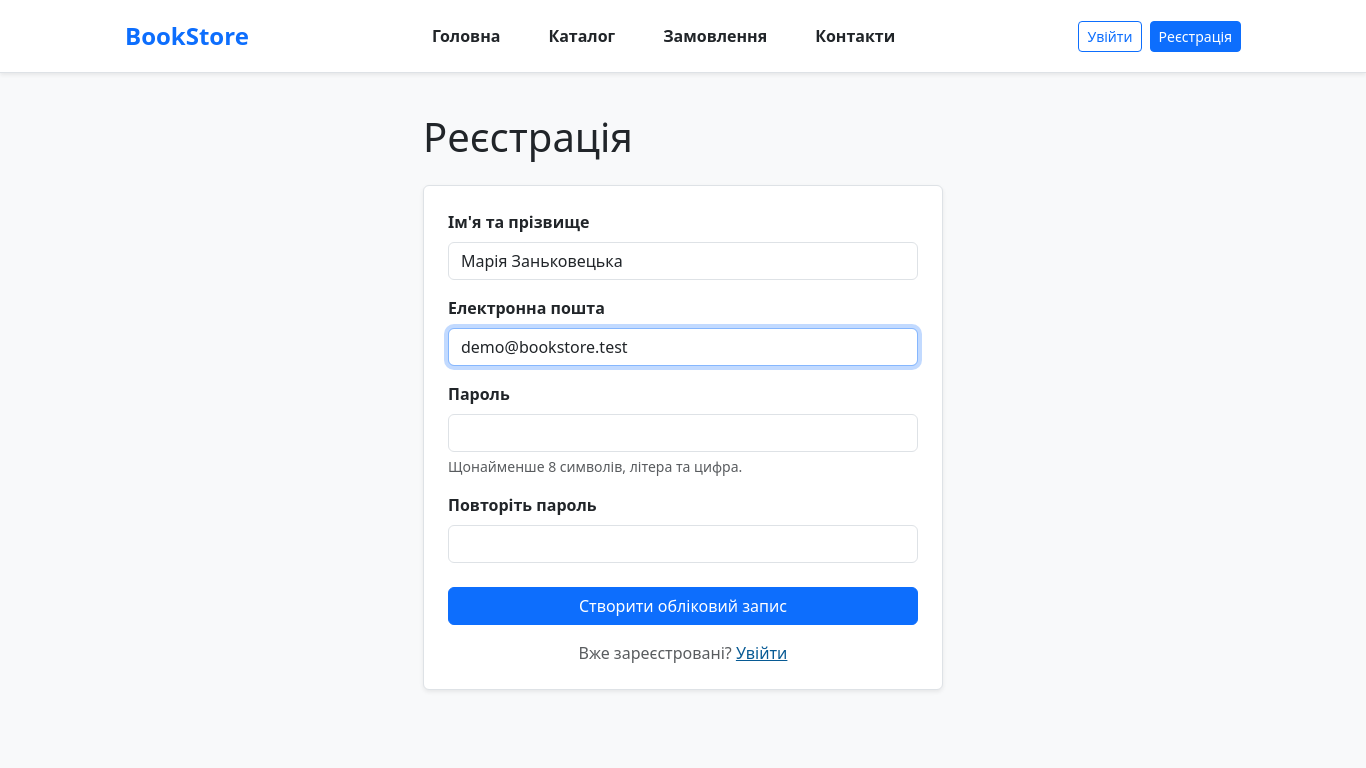
Test: Автентифікація, захищені маршрути та контакти › реєструє нового користувача, не допускає повторної реєстрації тієї ж пошти та виконує вихід
Earlier steps of the test are not shown.
Type "teatr1882" into the password field labelled "Пароль" at (683, 433), box [448,414,918,452]
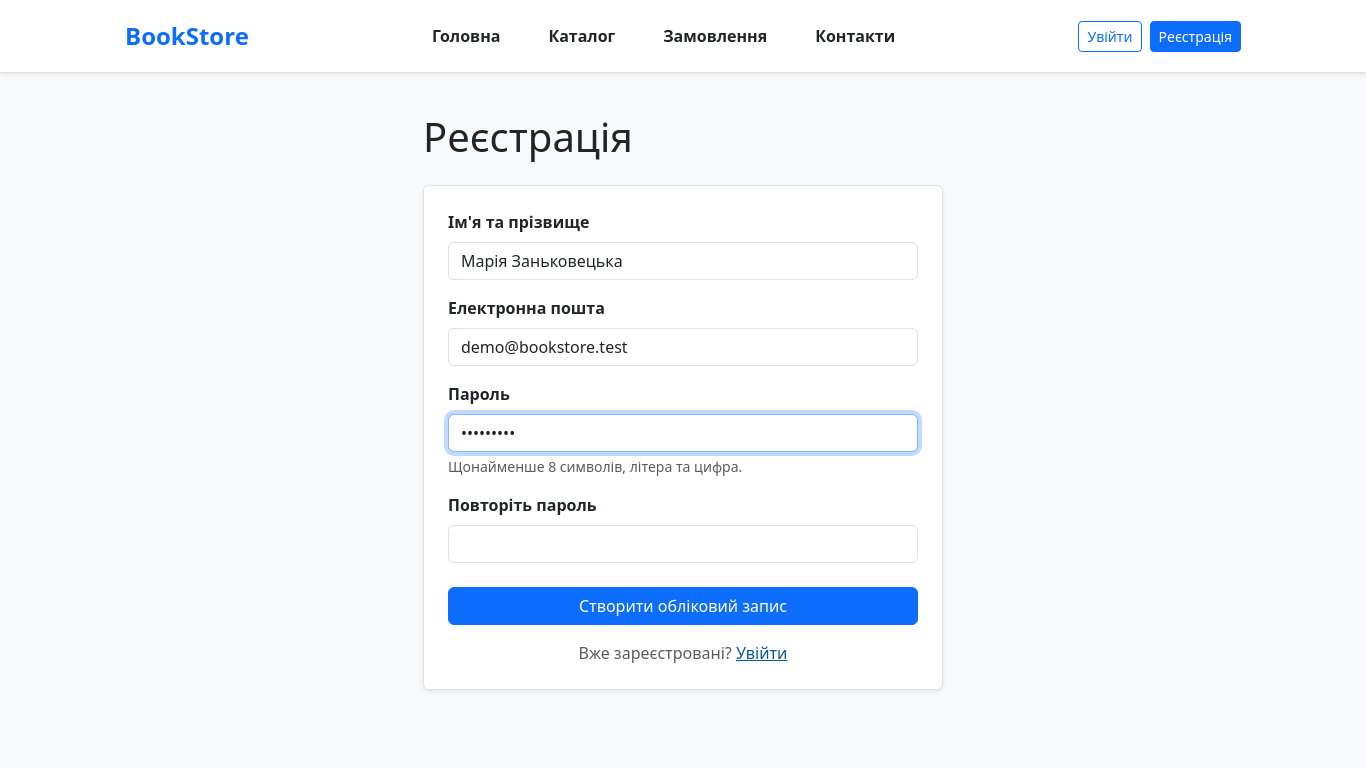
Type "teatr1882" into the password field labelled "Повторіть пароль" at (683, 544), box [448,525,918,563]
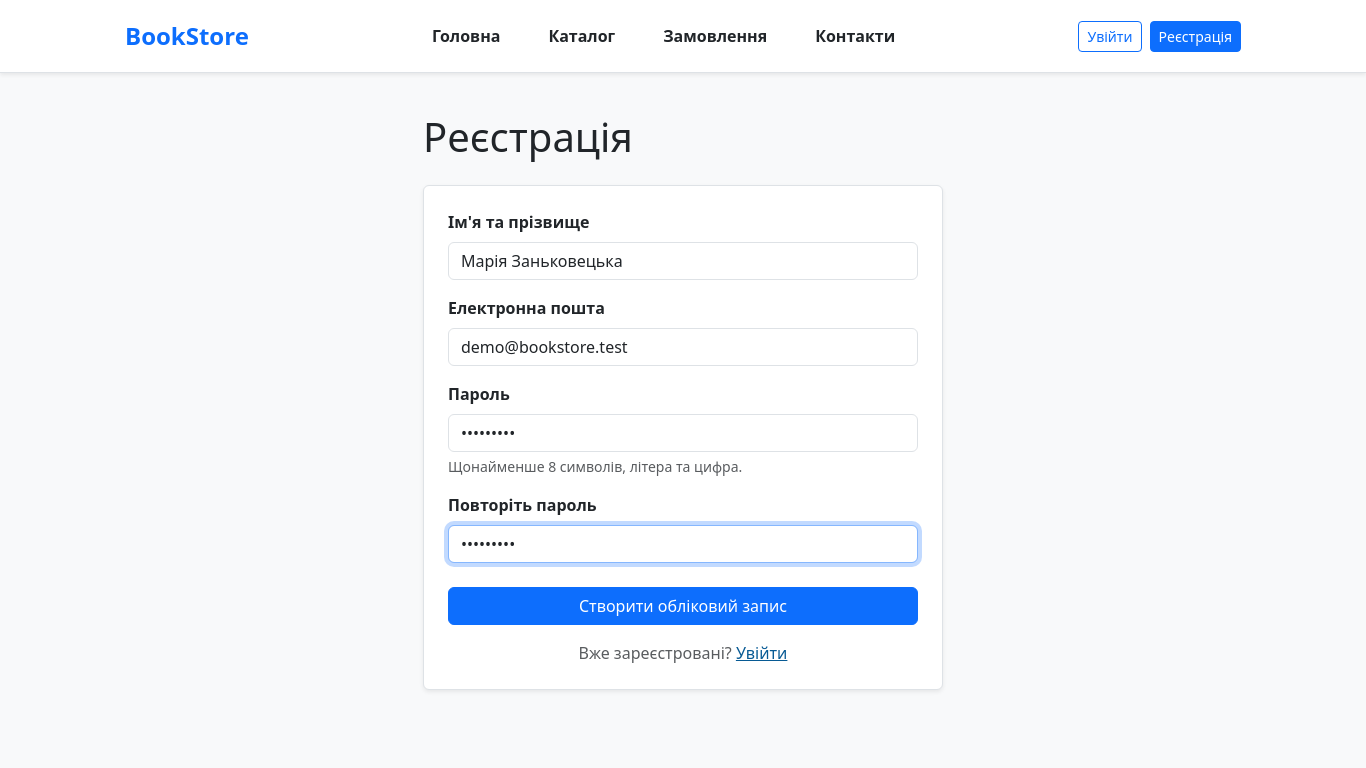
Click the button "Створити обліковий запис" at (683, 606), box [448,587,918,625]
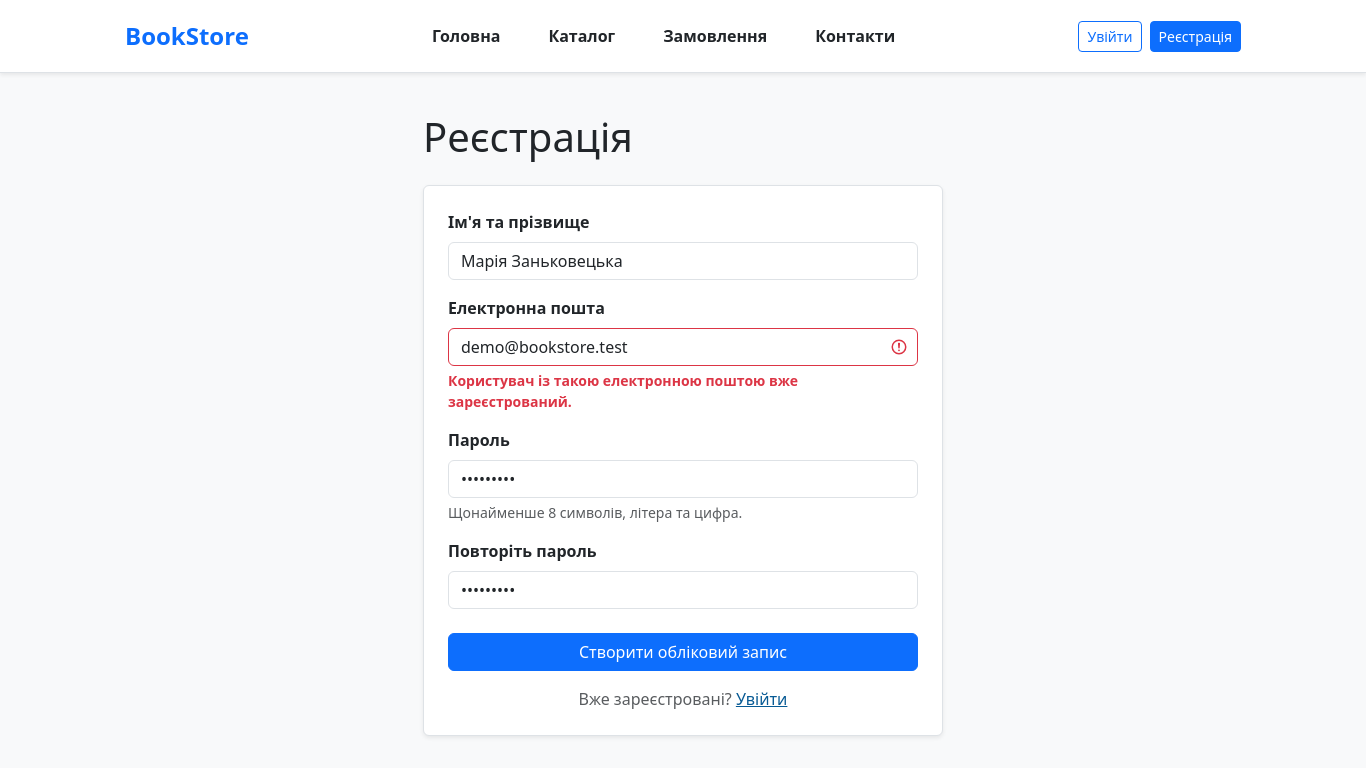
Result: the text "Користувач із такою електронною поштою вже зареєстрований." is shown at [448,371,798,411]
Replace the text in the field labelled "Електронна пошта" with "maria@example.com" at (683, 347), box [448,328,918,366]
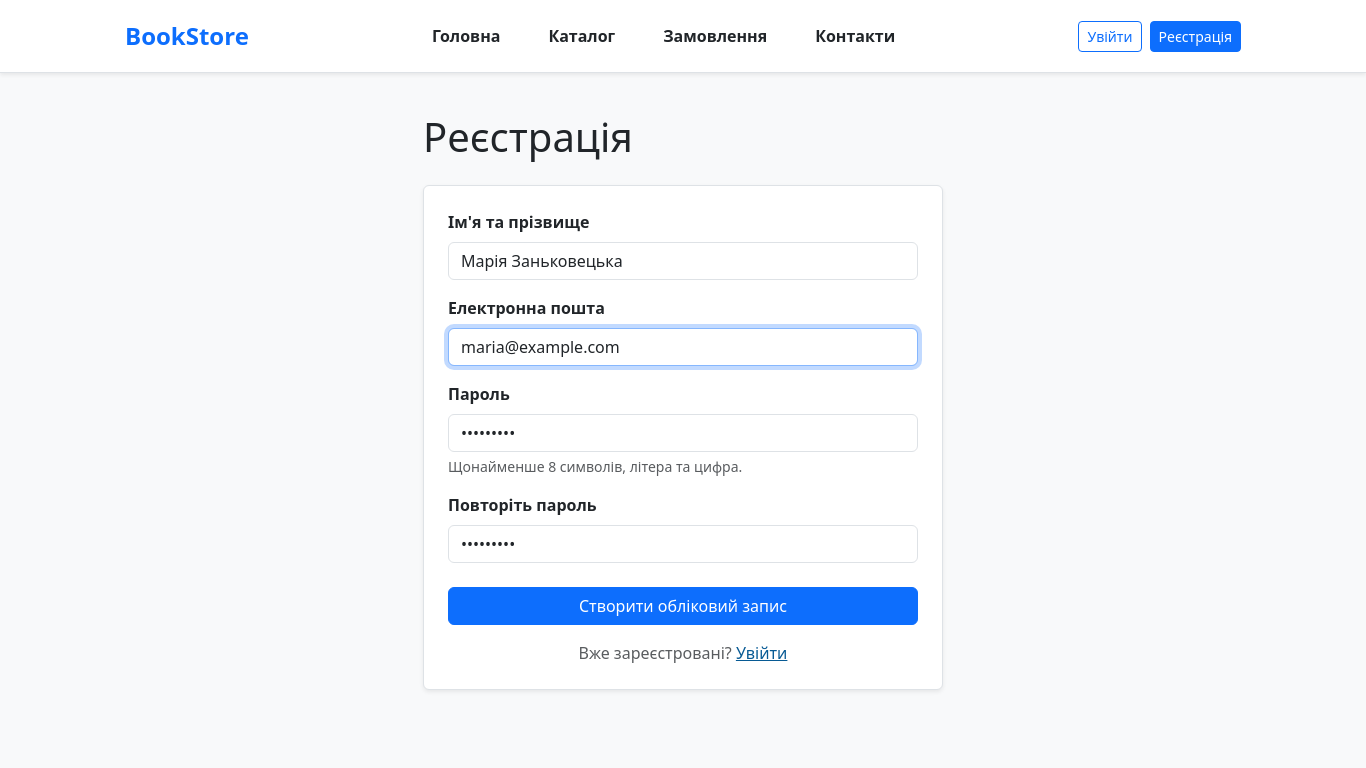
Click the button "Створити обліковий запис" at (683, 606), box [448,587,918,625]
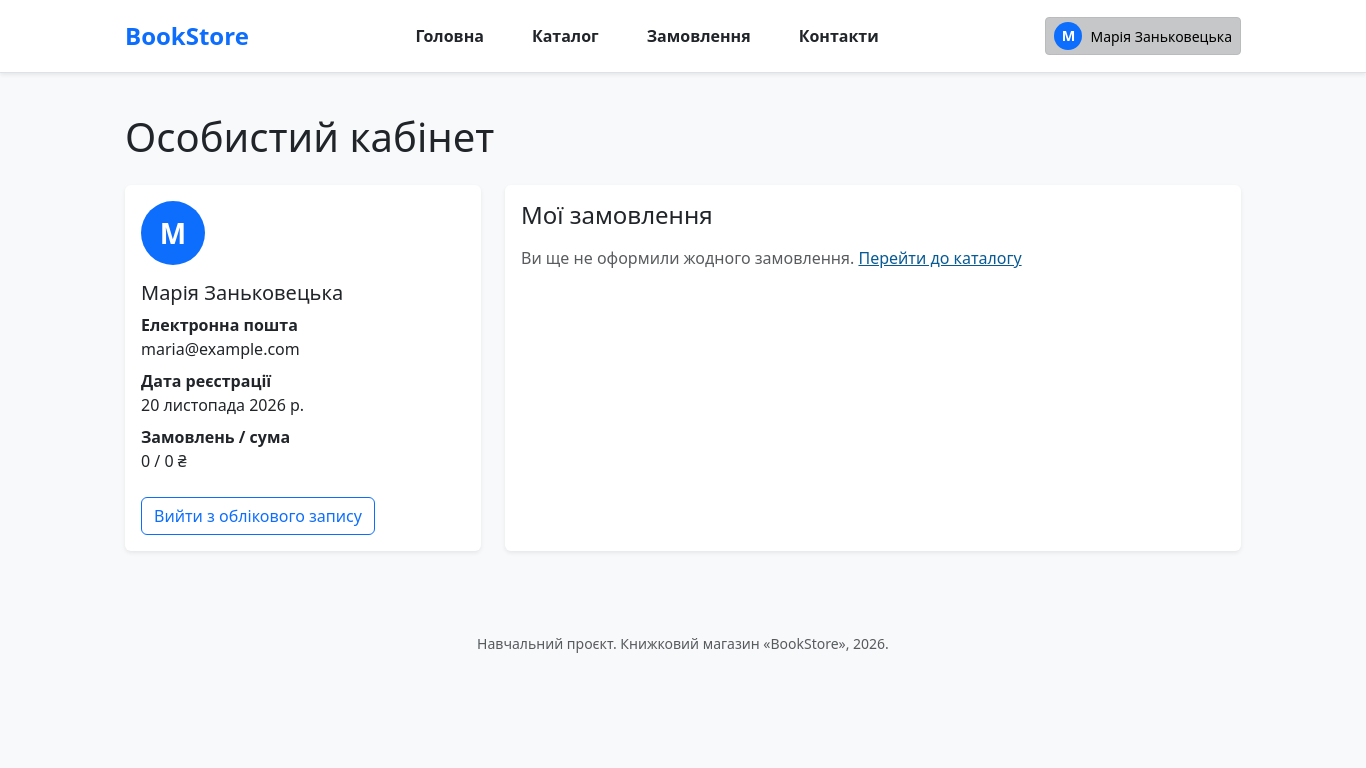
Result: the heading "Особистий кабінет" is shown at [125,109,494,164]
Result: the text "Ви ще не оформили жодного замовлення. Перейти до каталогу" is shown at [521,247,1022,269]
Click the button "Вийти з облікового запису" at (258, 516), box [141,497,375,535]
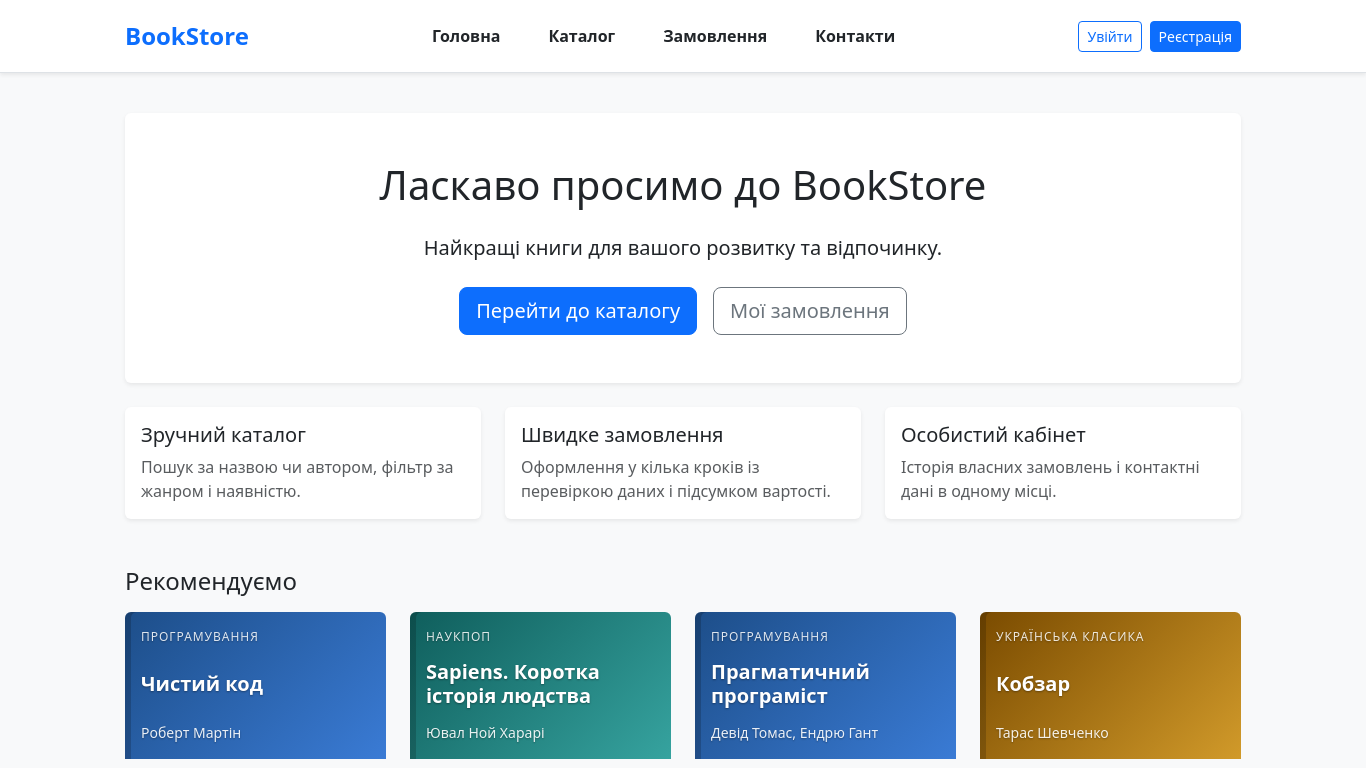
Result: the heading "Ласкаво просимо до BookStore" is shown at [380,157,986,212]
Result: the link "Увійти" is shown at [1078,20,1142,52]
